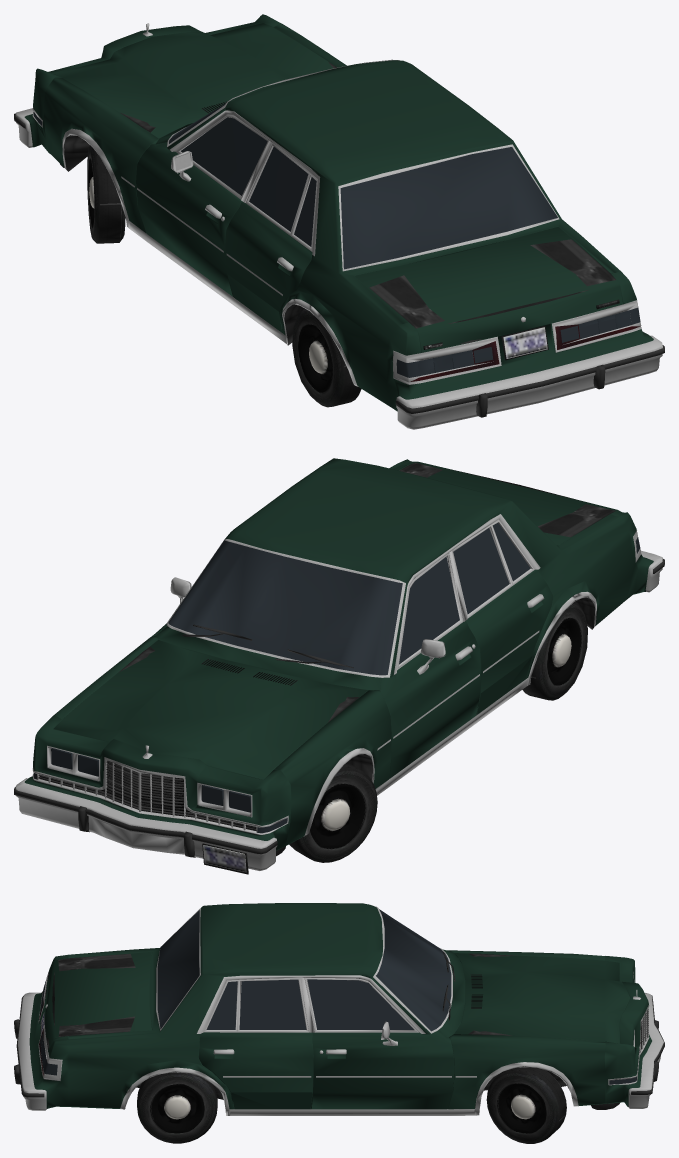
Rendered from car_sedan_80s.gltf.
The picture shows the model from 3 angles, top to bottom: view 1: azimuth 30°, elevation 25°; view 2: azimuth 150°, elevation 25°; view 3: azimuth 270°, elevation 25°; orthographic projection. The views are drawn at different scales.
Visible parts, largest first — view 1: car_sedan_80s; view 2: car_sedan_80s; view 3: car_sedan_80s.
Boxes of the visible parts, box(x1,y1,x2,y2) form: car_sedan_80s: box(14, 14, 664, 429); car_sedan_80s: box(14, 458, 664, 874); car_sedan_80s: box(14, 903, 664, 1143).
Size of the model in its own units: 1.92 by 1.36 by 4.9.
Materials: 1 (1 with a texture image).
